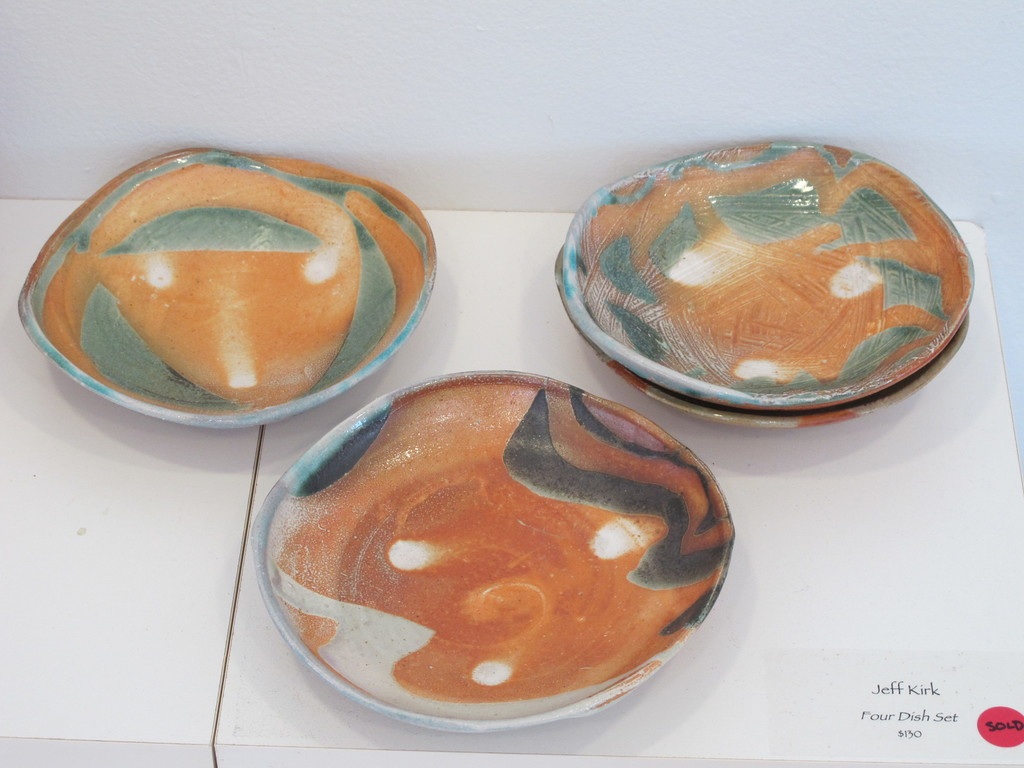plate: (193, 368, 799, 763), (16, 148, 433, 428), (554, 143, 977, 412)
